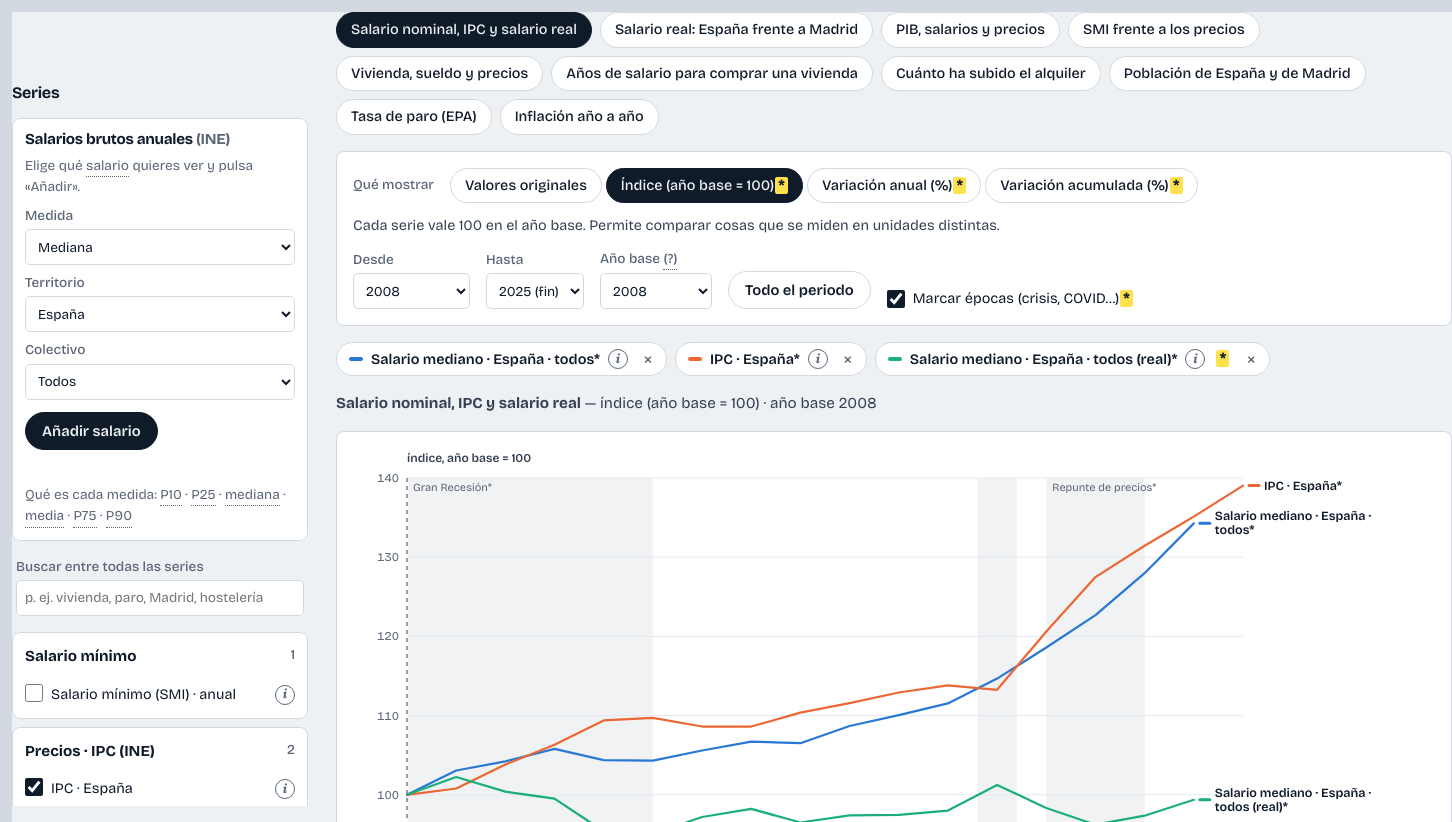
Test: Selector de series: búsqueda › filtra por texto sin tildes, abre los grupos con resultados y se puede borrar
Type "hosteleria" into the search field labelled "Buscar entre todas las series".
click(160, 598); type("hosteleria")  # box [16,580,304,616]
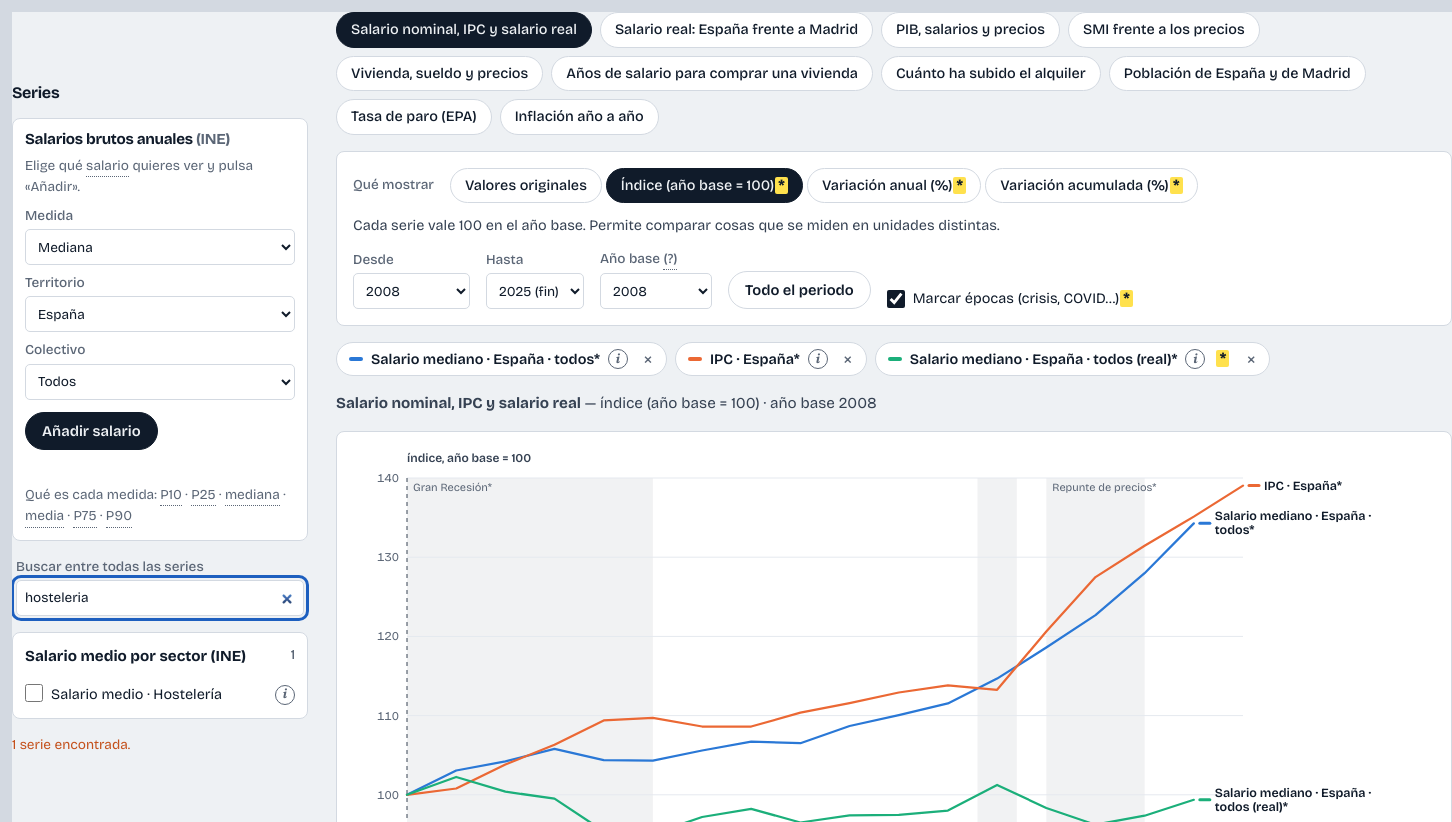
Expected: the checkbox labelled "Salario medio · Hostelería" is shown, [25,684,43,702]
Expected: the text "1 serie encontrada." is shown, [12,736,130,753]
Replace the text in the search field labelled "Buscar entre todas las series" with "zzzz" at (160, 598), box [16,580,304,616]
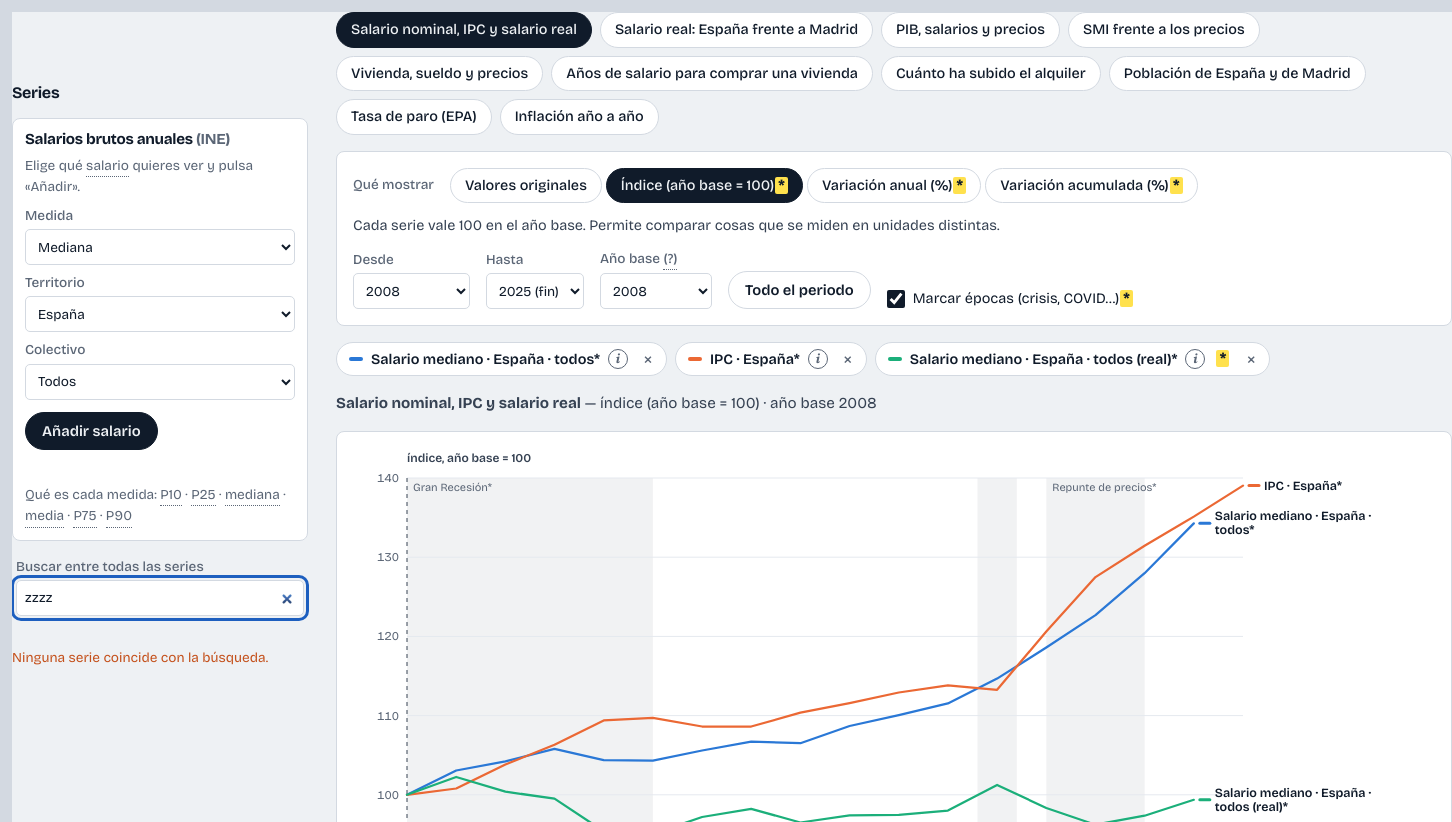
Expected: the text "Ninguna serie coincide con la búsqueda." is shown, [12,648,308,668]
Clear the search field labelled "Buscar entre todas las series" at (160, 598), box [16,580,304,616]
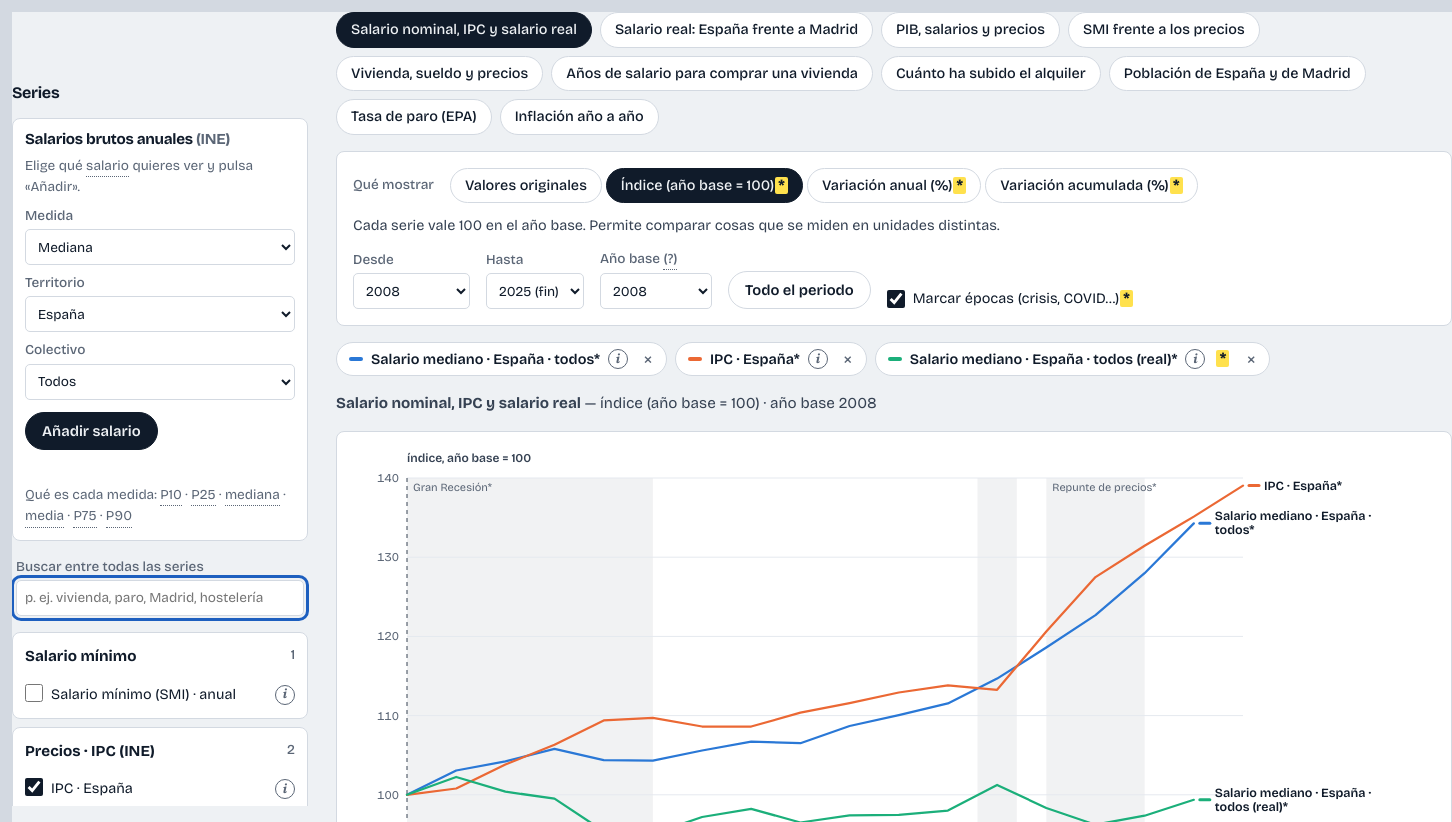
Expected: the text "Ninguna serie coincide con la búsqueda." is gone
